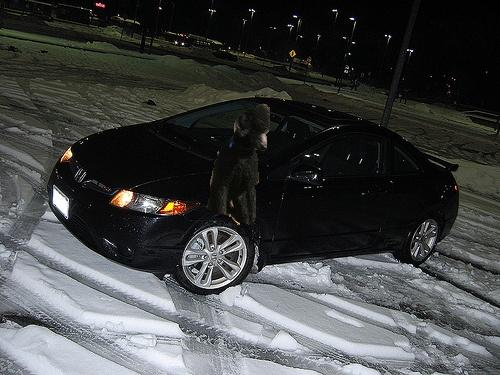tampered: (207, 104, 270, 225)
